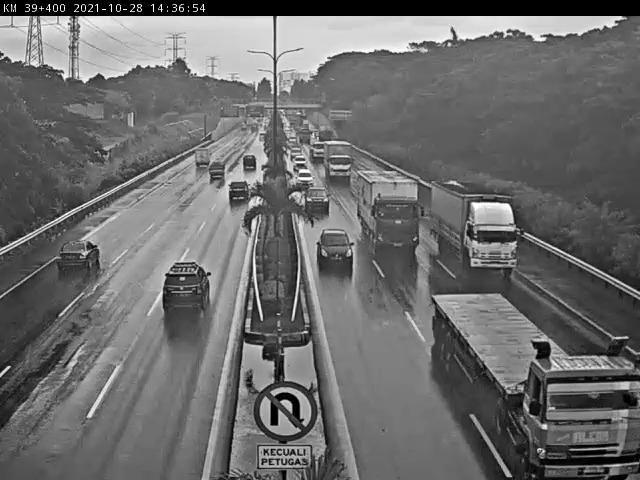big truck: (455, 308, 635, 473), (356, 181, 422, 257), (459, 198, 505, 272), (331, 141, 350, 179)
car: (159, 268, 207, 330), (52, 243, 97, 276), (321, 230, 350, 272), (305, 187, 328, 215)
